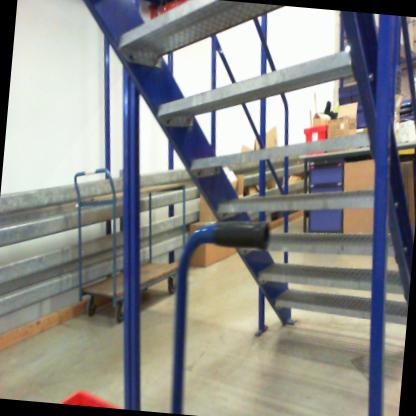small_load_carrier: (55, 385, 127, 408), (297, 119, 330, 164)
